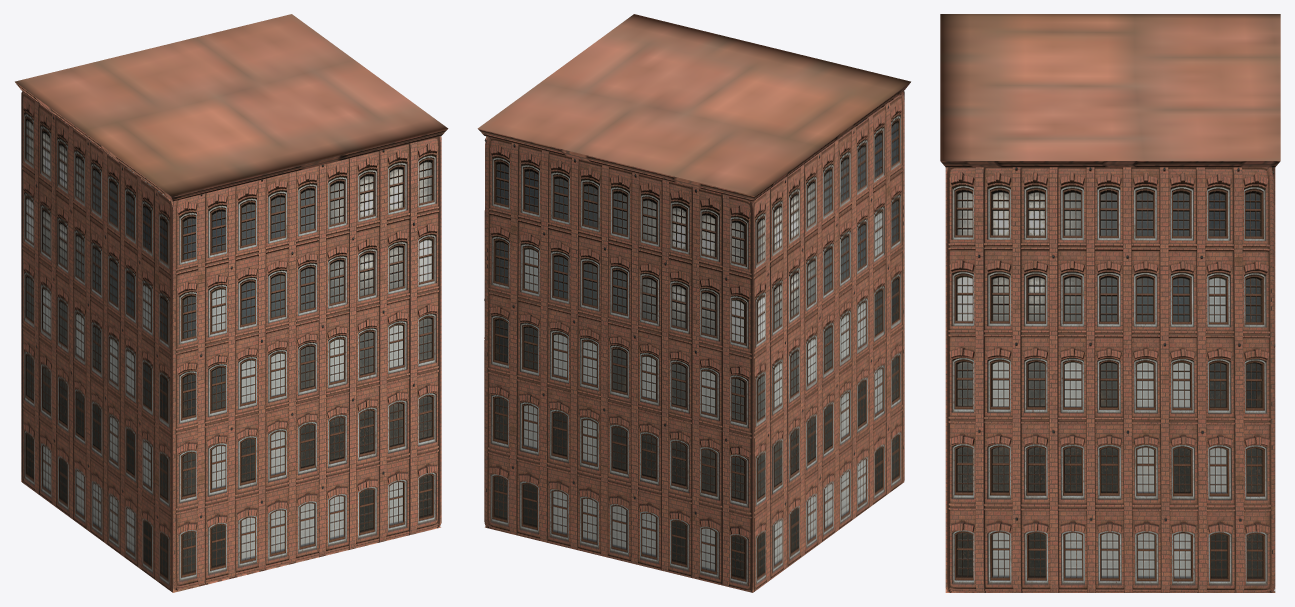
The model's file is Edificio.obj.
3 views of the same model, side by side, from view 1: azimuth 30°, elevation 25°; view 2: azimuth 150°, elevation 25°; view 3: azimuth 270°, elevation 25° (orthographic). The views are drawn at different scales.
Parts seen in each view (by area): view 1: Maqueta:Cube_Material_010; view 2: Maqueta:Cube_Material_010; view 3: Maqueta:Cube_Material_010.
Boxes of the visible parts, box(x1,y1,x2,y2) form: Maqueta:Cube_Material_010: box(15, 14, 448, 592); Maqueta:Cube_Material_010: box(477, 14, 910, 592); Maqueta:Cube_Material_010: box(940, 14, 1280, 592).
Size of the model in its own units: 2.56 by 3.52 by 2.5.
Materials: 1 (1 with a texture image).
